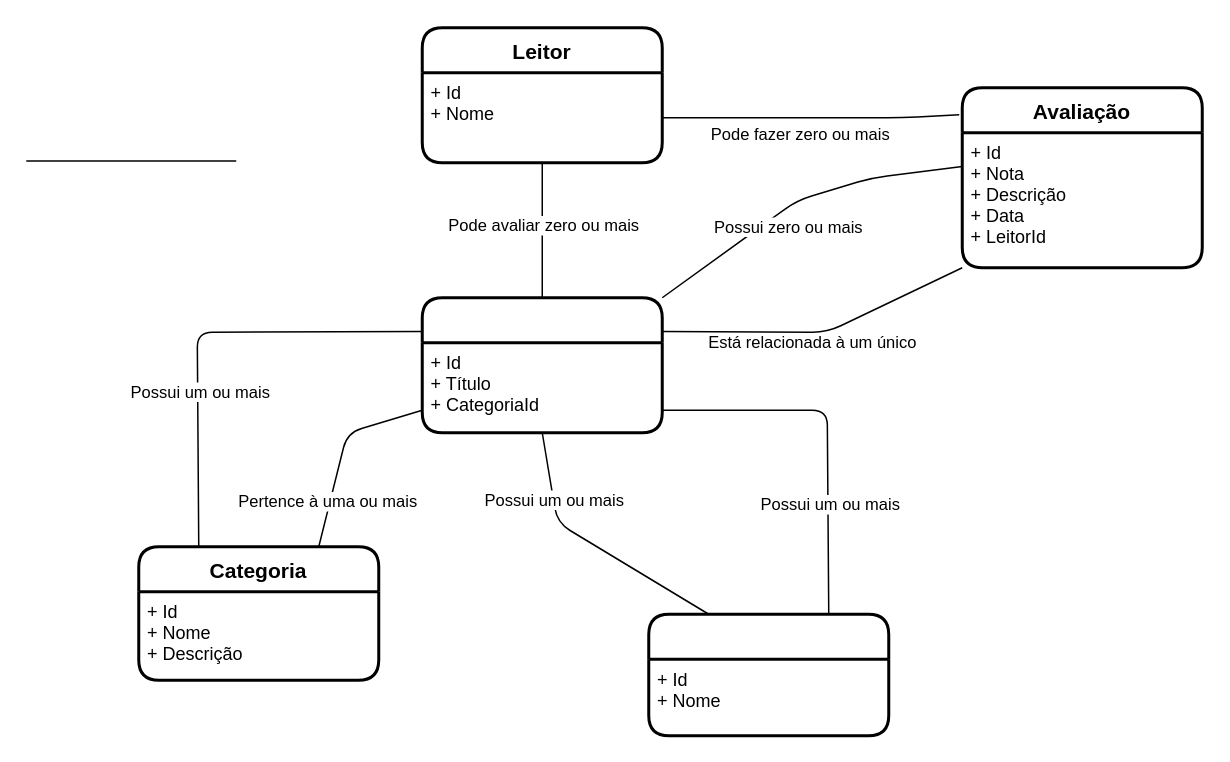
The diagram is 1230 pixels wide and 762 high, and some of its shapes have lost their labels. Here are the shapes that lost their labels. From the top down, the box of each, then its label:
(420, 296, 663, 434): Livro
(646, 612, 890, 736): Autor
